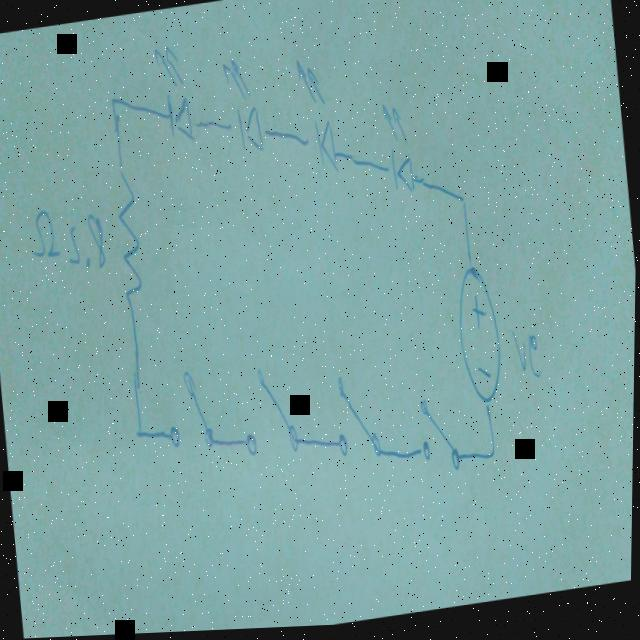diode: (288, 53, 343, 190), (216, 48, 266, 164), (147, 41, 195, 153), (375, 98, 421, 207)
junction: (453, 183, 473, 228), (131, 417, 150, 455), (483, 440, 501, 473), (105, 88, 122, 120)
resistor: (107, 163, 149, 321)
source: (450, 262, 509, 418)
switch: (235, 360, 303, 468), (327, 368, 387, 470), (162, 364, 219, 464), (412, 391, 466, 481)
text: (25, 196, 108, 284), (510, 321, 546, 384)
